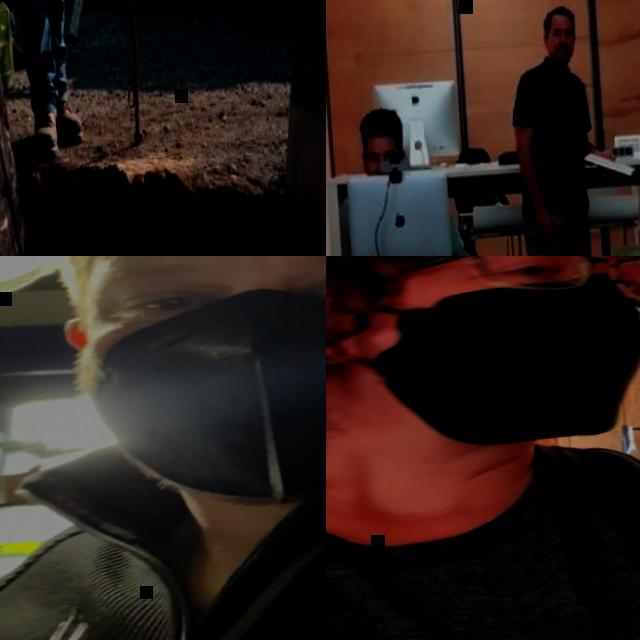Mask: (330, 262, 640, 455), (77, 290, 326, 514)
NO-Hardhat: (357, 104, 405, 147), (544, 3, 576, 29)
NO-Mask: (547, 39, 575, 66)
NO-Safety Vest: (0, 430, 326, 640), (326, 431, 640, 640), (509, 62, 596, 220)
Person: (0, 256, 326, 640), (326, 256, 640, 640), (504, 3, 623, 256), (356, 97, 510, 256), (9, 0, 87, 158), (0, 0, 28, 72)
